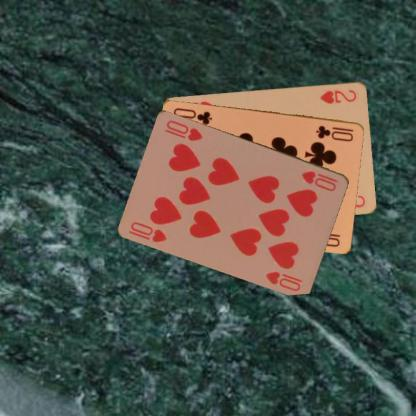10c: (313, 122, 355, 142)
10h: (128, 219, 170, 244), (298, 168, 340, 192)
2h: (317, 85, 358, 105)
